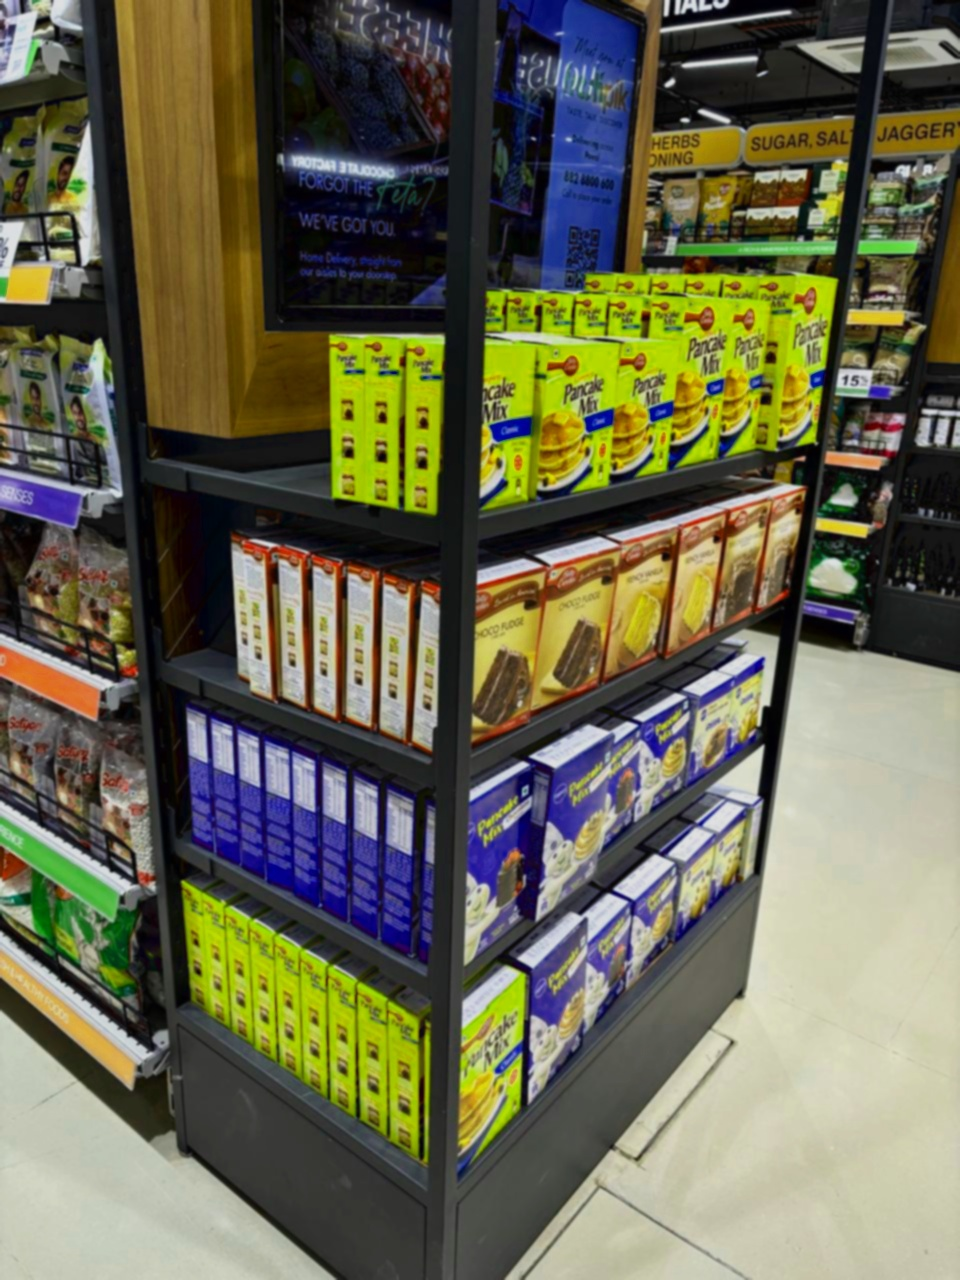Betty Crocker Pancake Mix: (415, 956, 530, 1180), (404, 338, 535, 520), (528, 331, 620, 503), (651, 288, 722, 467), (757, 269, 828, 447), (602, 336, 681, 483), (711, 295, 777, 459), (359, 335, 402, 509), (326, 336, 368, 506), (319, 957, 360, 1125), (241, 916, 282, 1067), (382, 990, 419, 1157), (352, 976, 389, 1140), (296, 943, 328, 1102), (221, 903, 254, 1050), (272, 931, 303, 1086), (176, 868, 204, 1022), (199, 898, 229, 1032), (607, 282, 654, 336), (539, 284, 581, 335), (566, 285, 608, 333), (504, 285, 538, 333)
